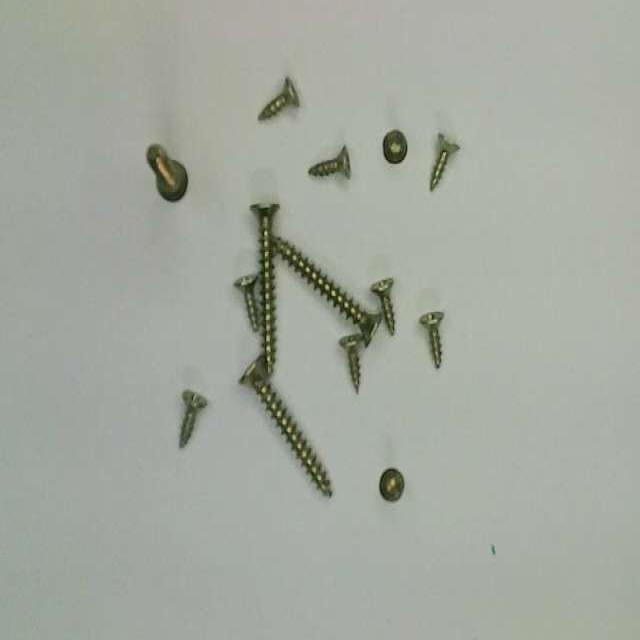Parafuso: (239, 356, 331, 496), (275, 236, 380, 344), (250, 204, 278, 376), (147, 145, 187, 200), (259, 77, 298, 120), (430, 133, 459, 189), (180, 389, 207, 447), (339, 333, 362, 392), (370, 277, 394, 333), (419, 312, 443, 367), (234, 275, 257, 331), (309, 145, 350, 176), (383, 129, 407, 163), (380, 468, 404, 500)
